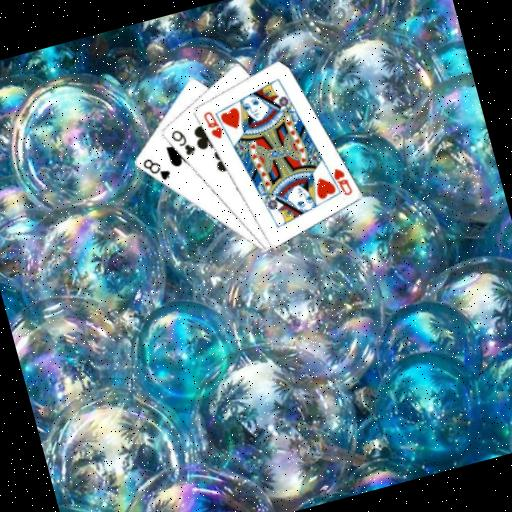8S: (138, 150, 173, 186)
9C: (167, 123, 198, 160)
QH: (322, 160, 354, 201), (199, 106, 226, 143)
